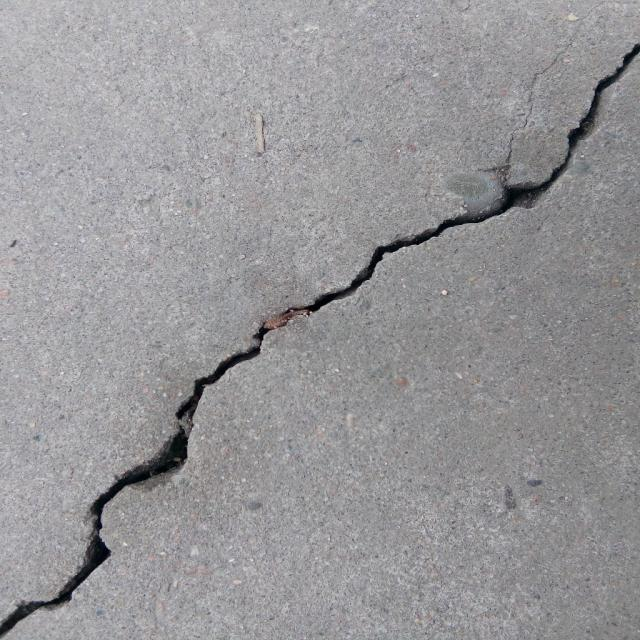cracks: (14, 0, 640, 640)
